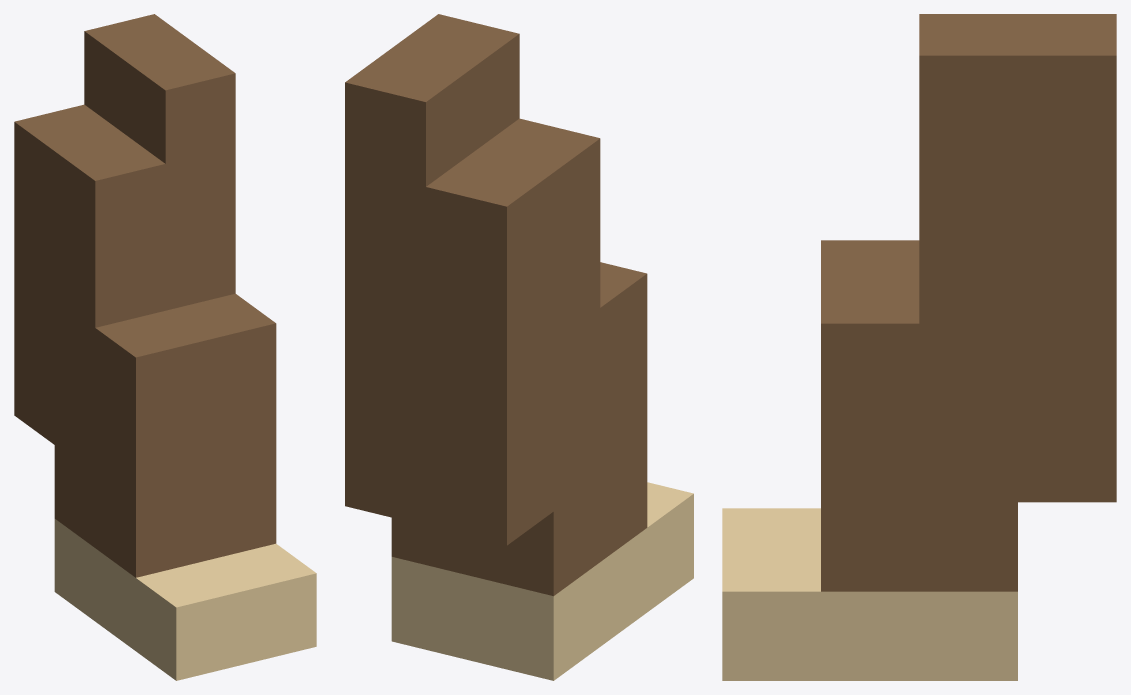
The model's file is monkey__leg_bl.glb.
The picture shows the model from 3 angles, left to right: view 1: azimuth 30°, elevation 25°; view 2: azimuth 150°, elevation 25°; view 3: azimuth 270°, elevation 25°; orthographic projection. The views are drawn at different scales.
Parts seen in each view (by area): view 1: monkey__leg_bl; view 2: monkey__leg_bl; view 3: monkey__leg_bl.
Part boxes in pixels (x1,y1,x2,y2): monkey__leg_bl: (14, 14, 316, 680); monkey__leg_bl: (345, 14, 693, 680); monkey__leg_bl: (722, 14, 1116, 680).
Bounding box in the file's own units: 0.2 × 0.7 × 0.4.
Materials: 1 (1 with a texture image).
